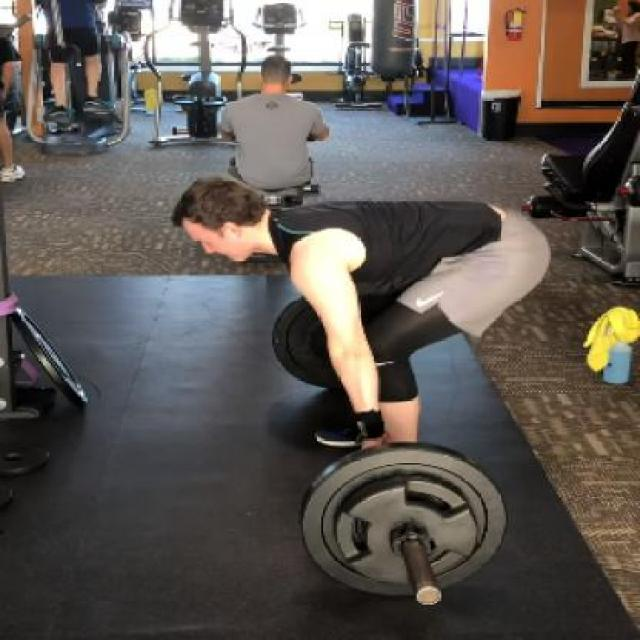Barbell: (411, 578, 446, 610)
